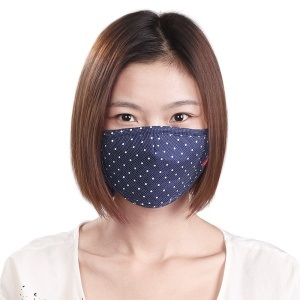face_mask: (99, 67, 206, 208)
